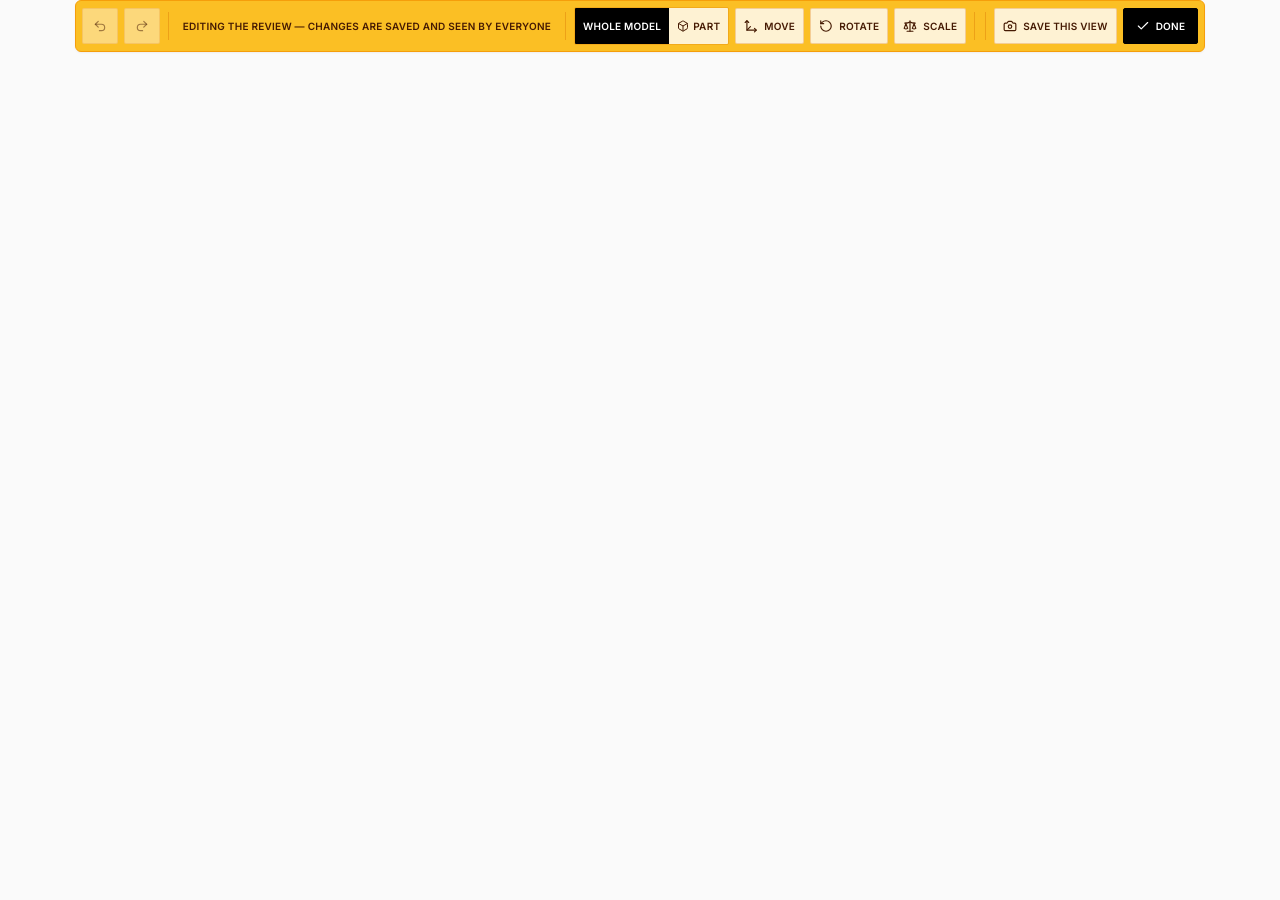
the strip when it does not fit › shrinks the sentence to "Editing" first, and keeps all of it in the tooltip
Click the button titled "Move, turn and resize one part of a model" at {"x": 699, "y": 26}, box top-left (669, 8), bottom-right (728, 44)
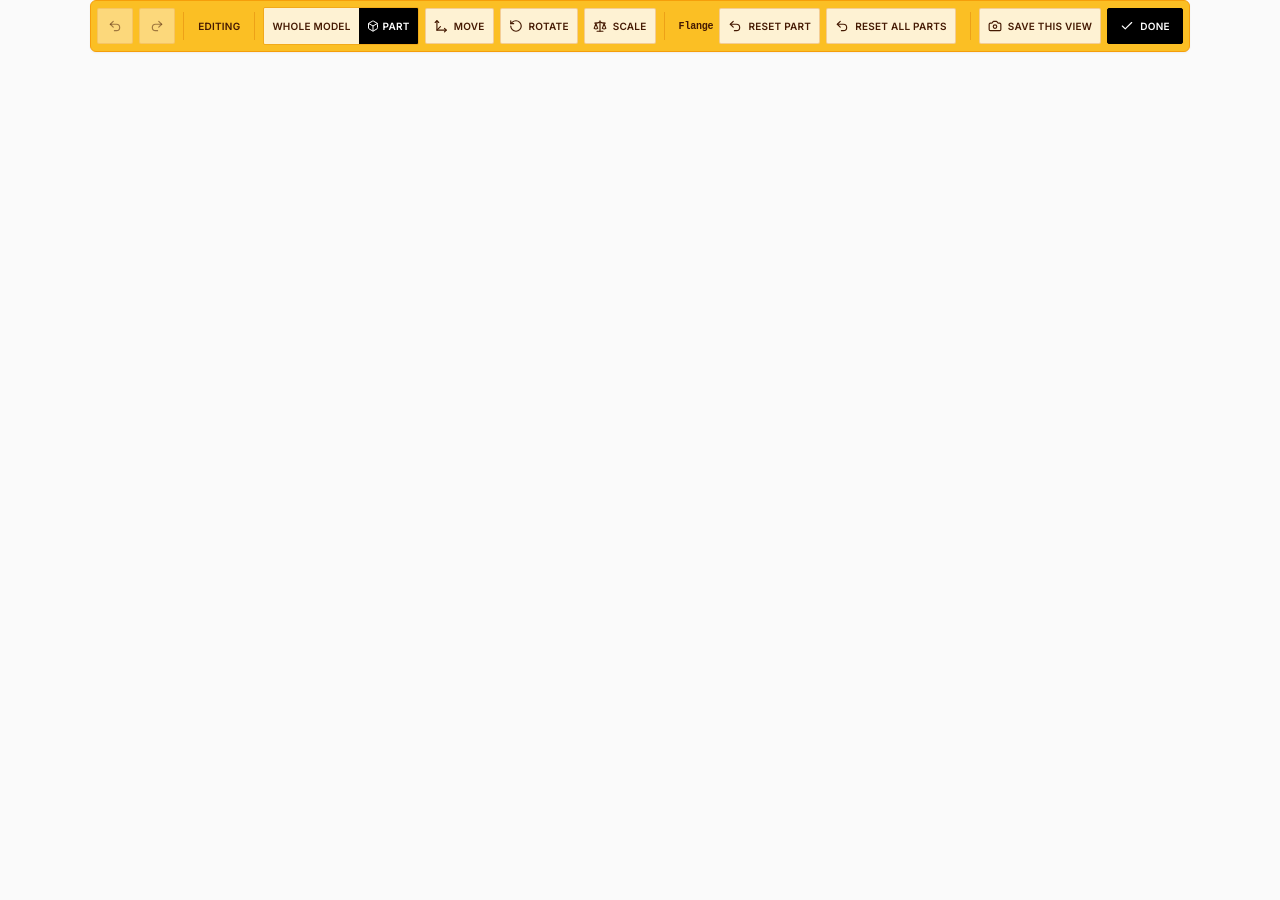
Expected: the text "Save this view" is shown, top-left (1008, 18), bottom-right (1092, 34)
Expected: the text "Editing the review — changes are saved and seen by everyone" is gone
Expected: the text "Reset all parts" is shown, top-left (855, 18), bottom-right (947, 34)
